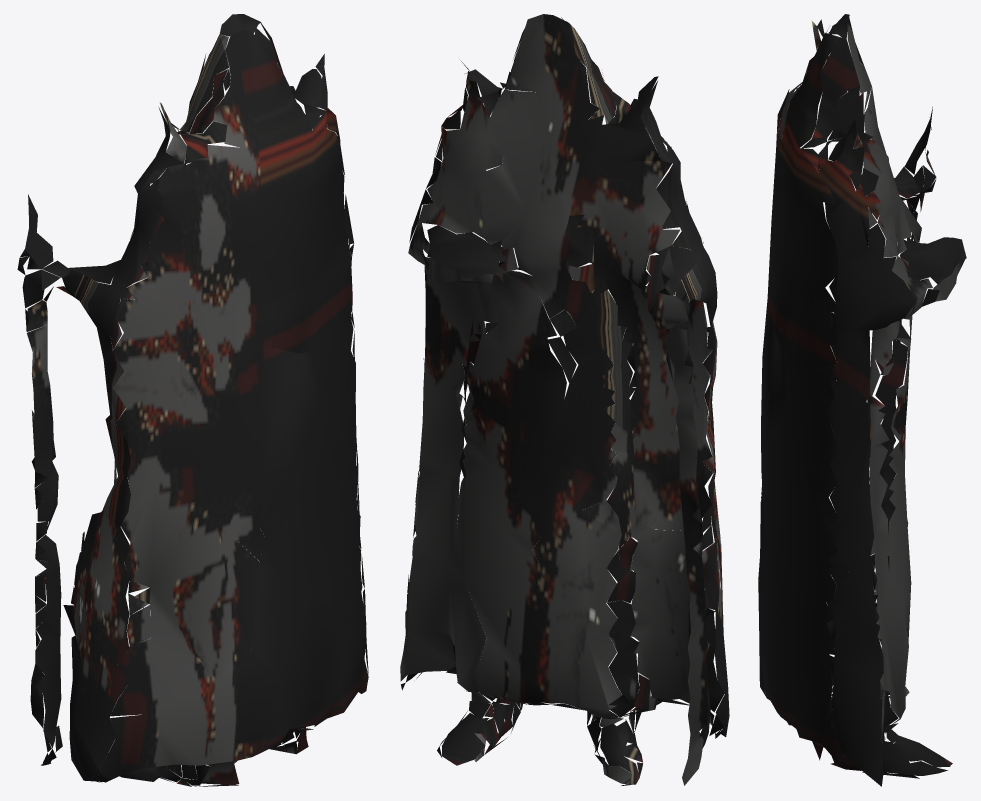
3 renders of one model, left to right at view 1: azimuth 30°, elevation 25°; view 2: azimuth 150°, elevation 25°; view 3: azimuth 270°, elevation 25°, orthographic. The views are drawn at different scales.
Visible parts, largest first — view 1: body.002; view 2: body.002; view 3: body.002.
Boxes of the visible parts, x1=… form: body.002: x1=17, y1=14, x2=368, y2=786; body.002: x1=400, y1=14, x2=729, y2=785; body.002: x1=758, y1=14, x2=966, y2=786.
Size of the model in its own units: 0.9107 by 2 by 0.5176.
1 material, 1 textured.
